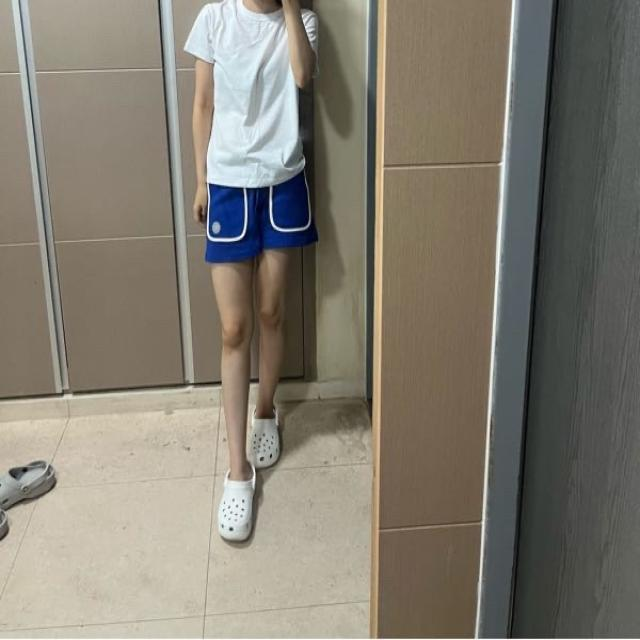shortpants: (207, 168, 316, 264)
shortsleeve: (184, 0, 326, 187)
